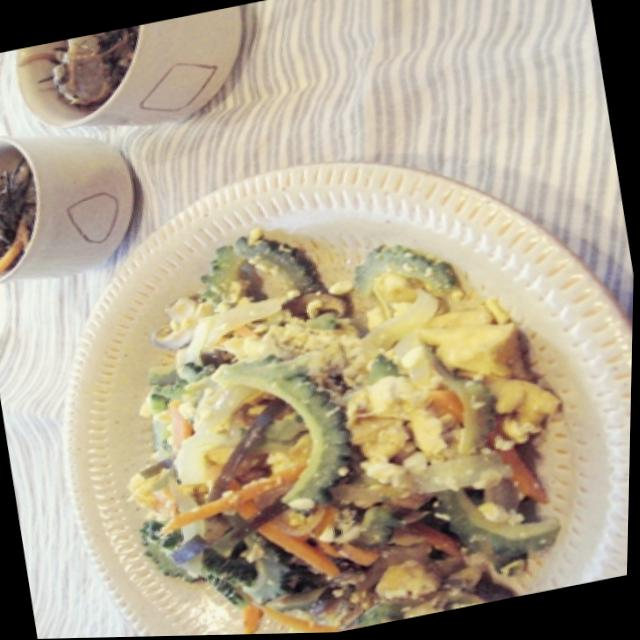熟制海鲜: (7, 94, 638, 640)
